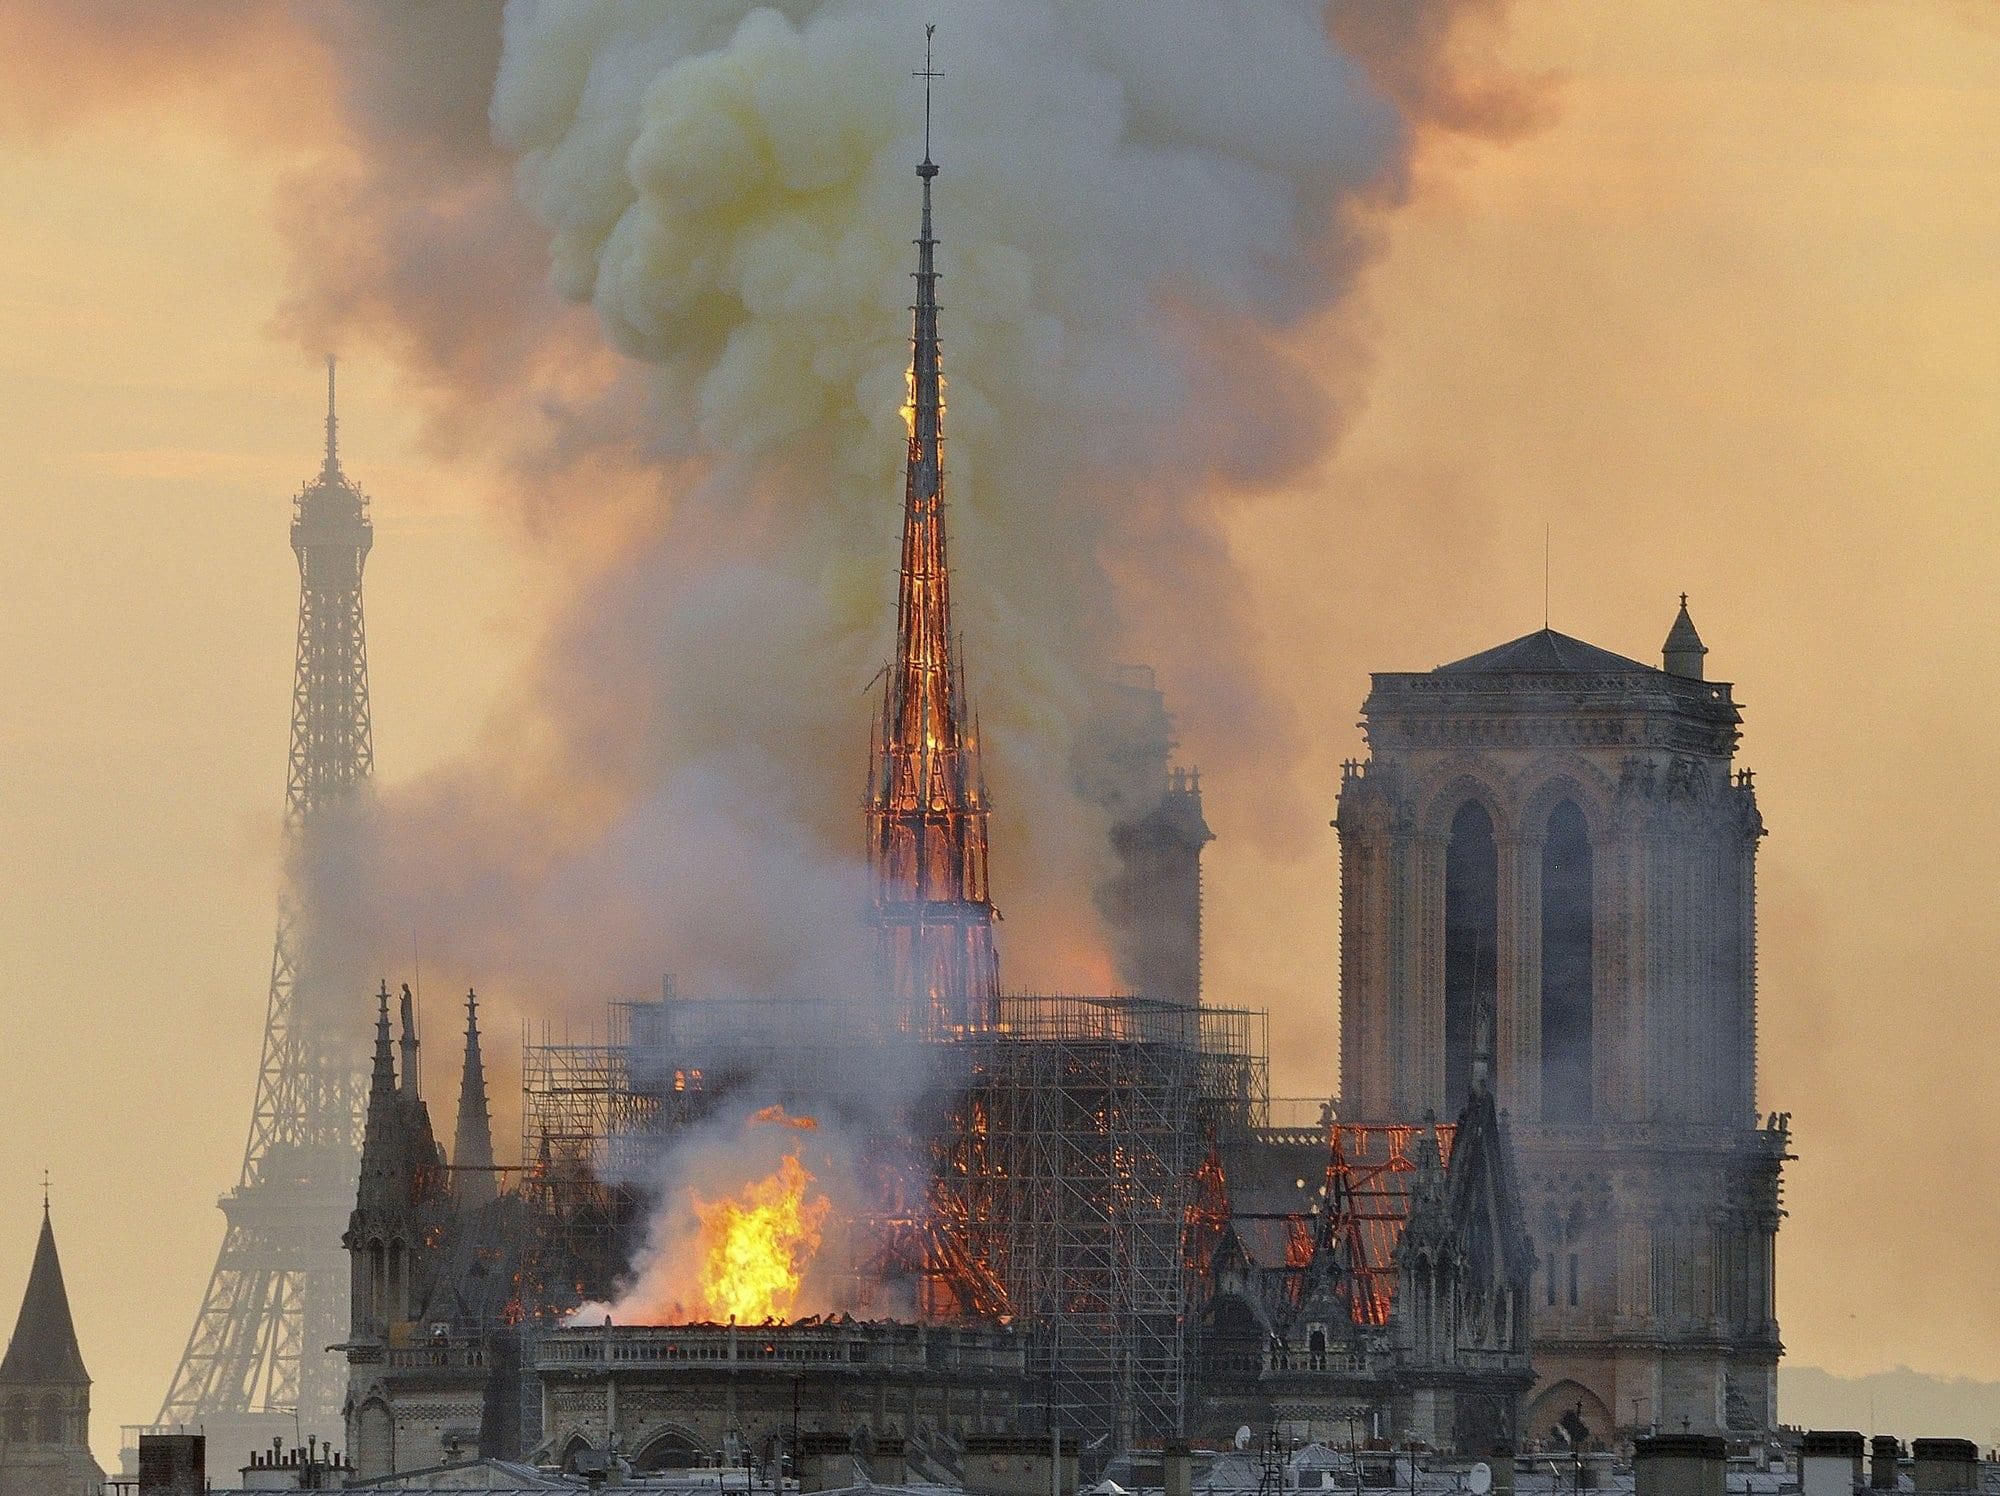Fire: (658, 284, 1009, 1348)
